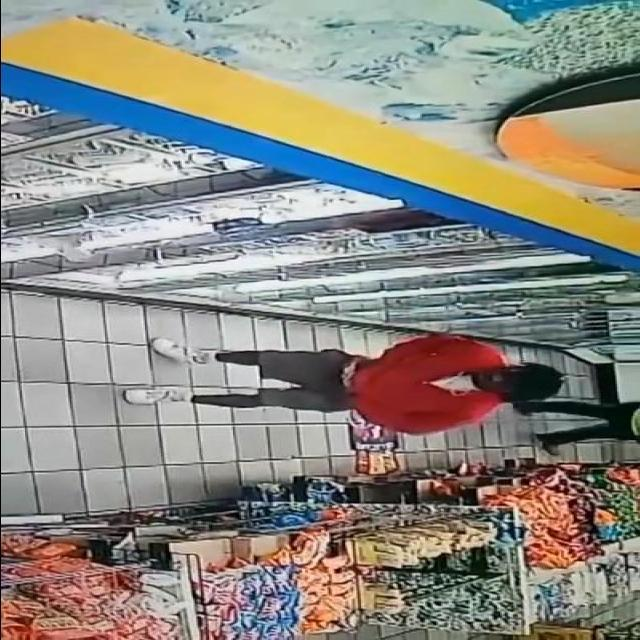Shoplifting: (93, 305, 592, 446)
